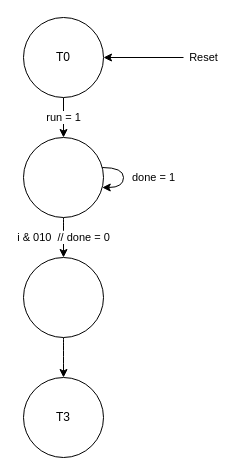
This 235x475 diagram has some shape labels left out. The shapes that lost their labels are listed below. From the top down, each one's centre as x and y in pixels, then its label:
At (x=63, y=177): "T1".
At (x=63, y=297): "T2".
